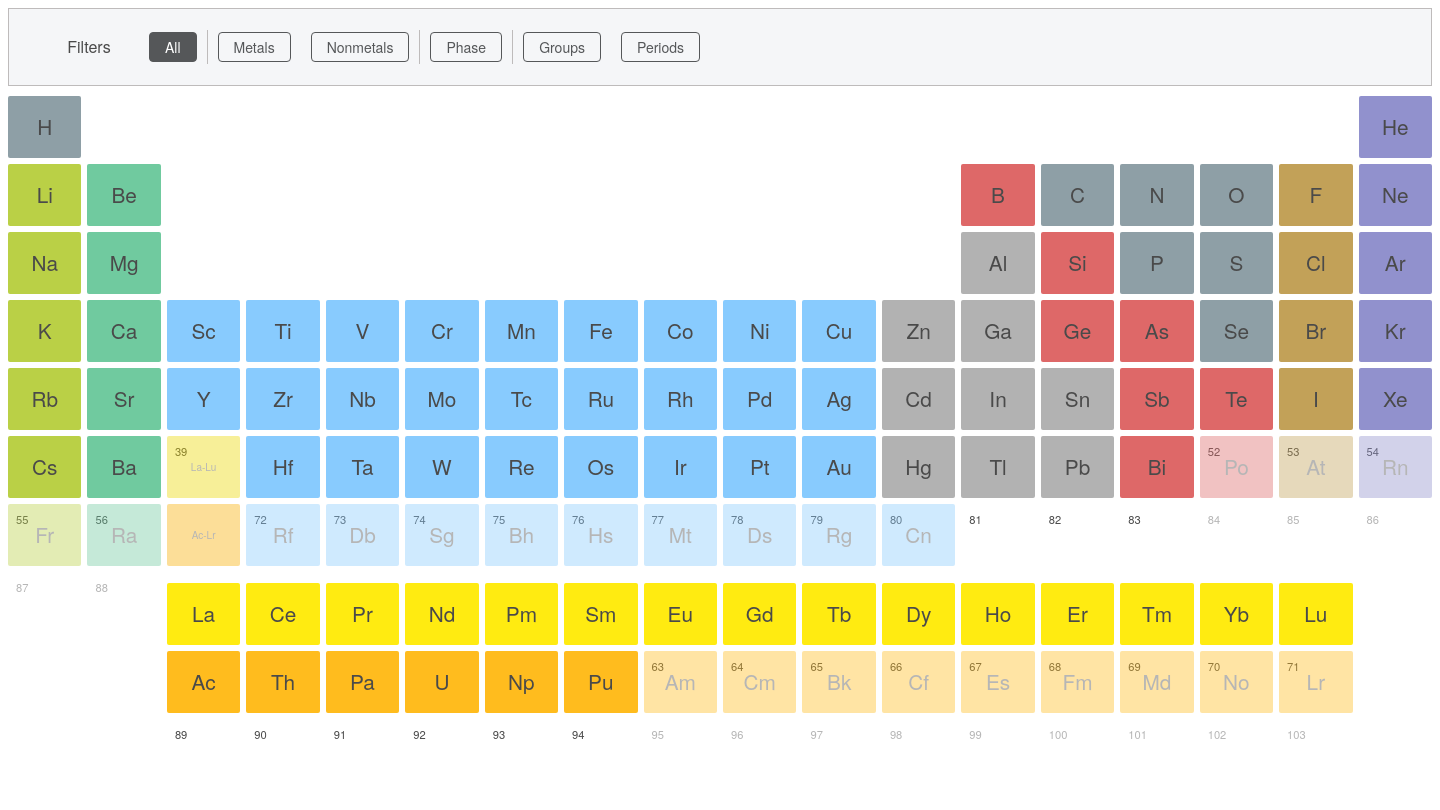
it: TableFilter › clears the previous hidden state when switching top-level filter groups
Click the button "Phase".
click(466, 47)  # box [430,32,502,62]
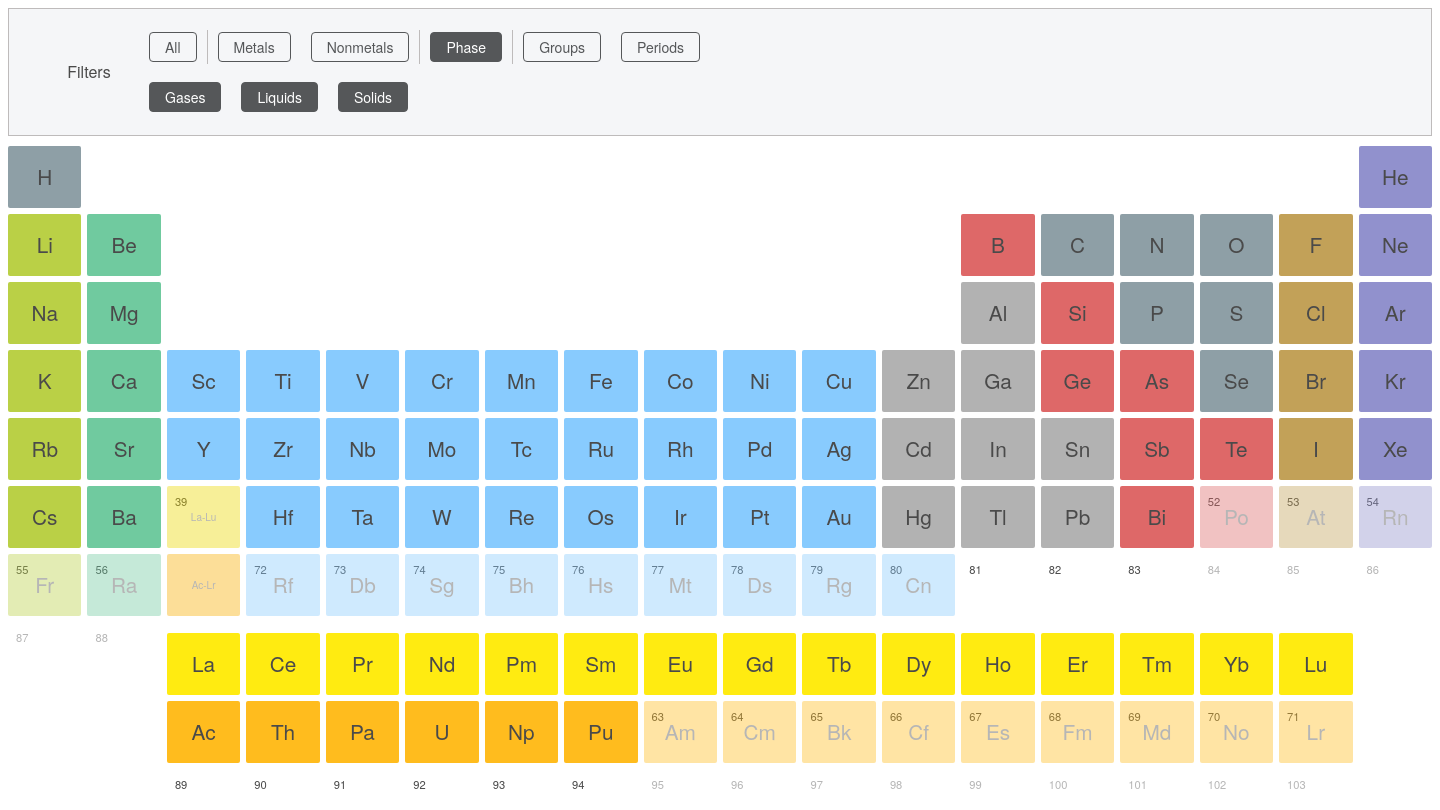
Click the button "Gases".
click(185, 97)  # box [149,82,222,112]
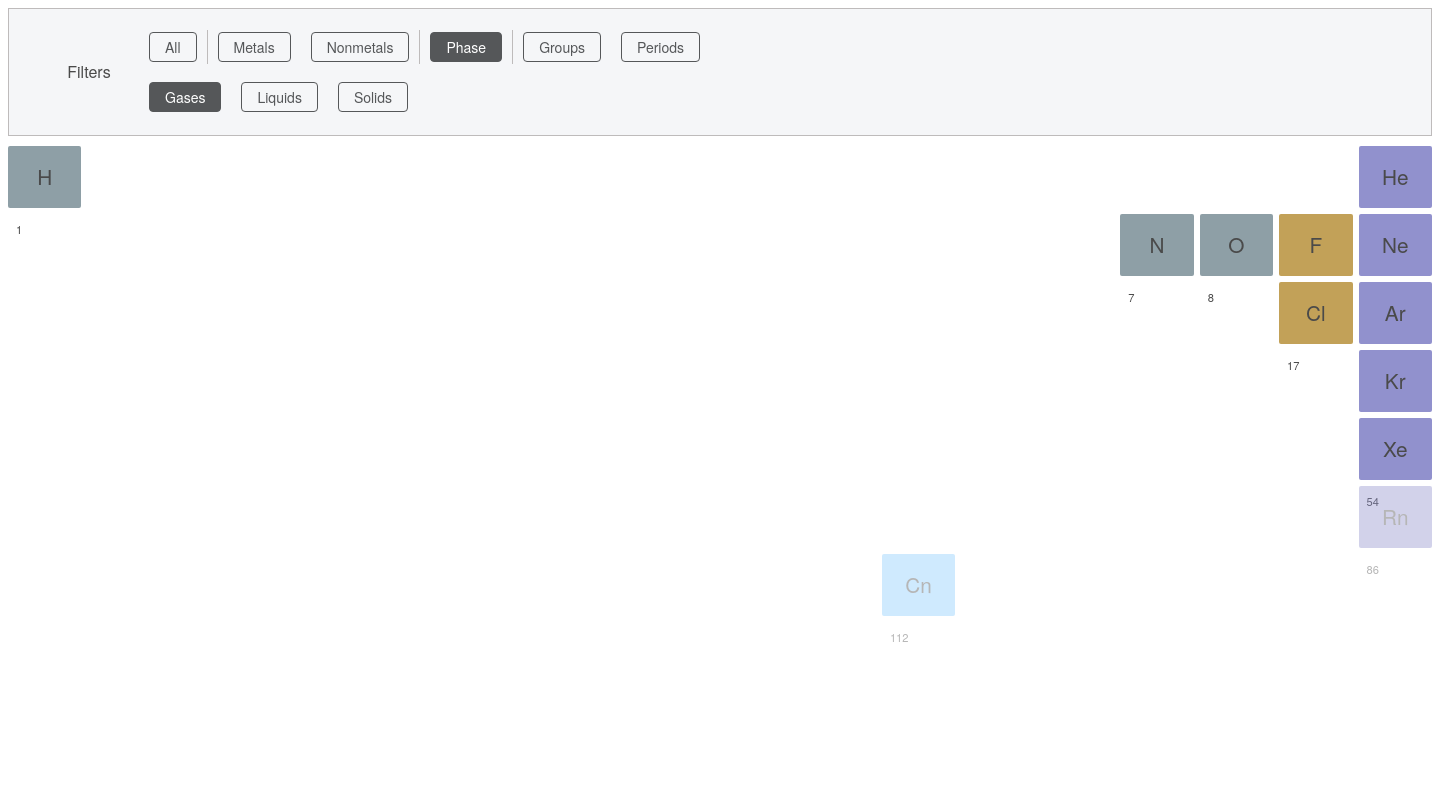
Now the button with test id "periodic-element-Fe" is gone
Click the button "Metals".
click(254, 47)  # box [218,32,291,62]
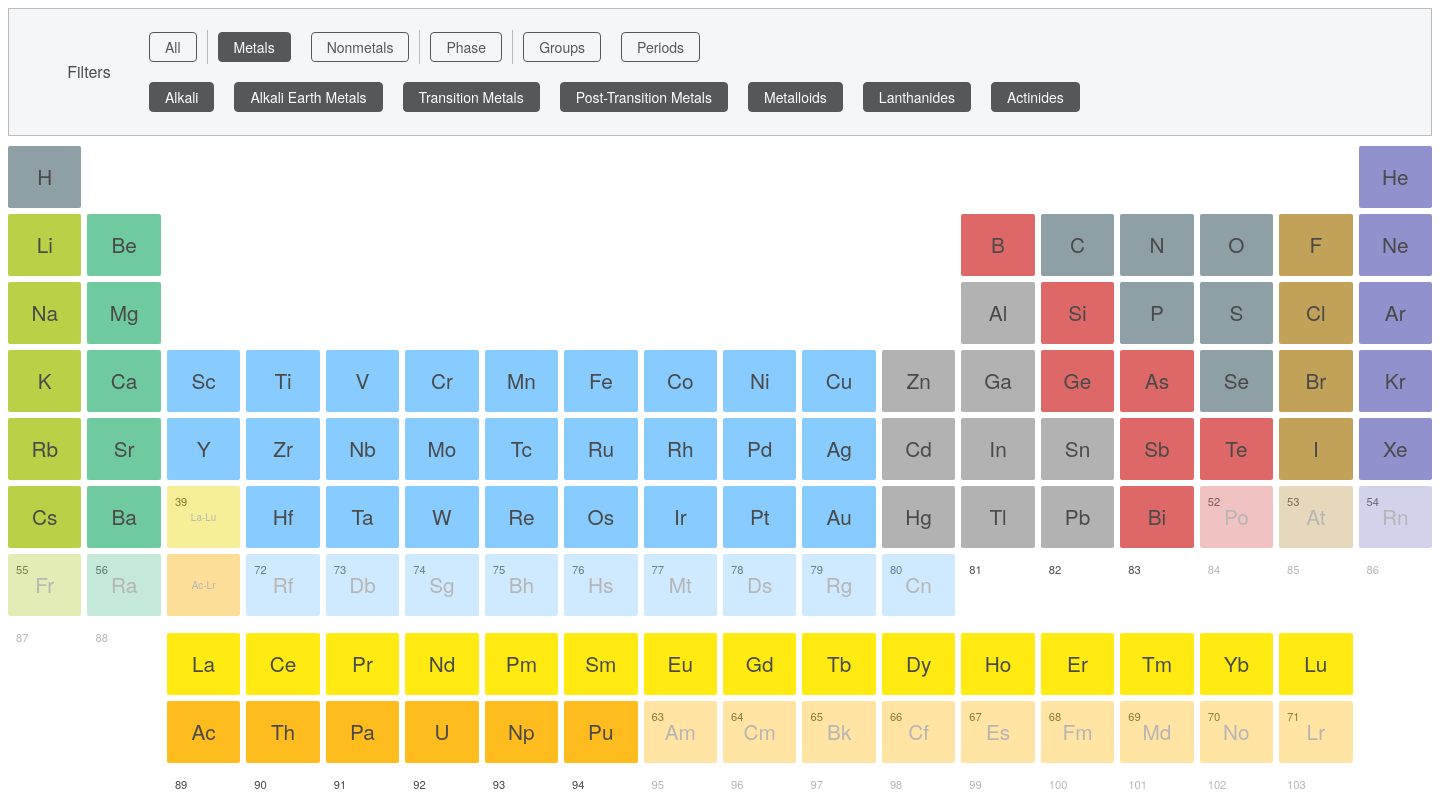
Now the button with test id "periodic-element-Fe" is shown, box [564,350,638,412]
Now the button "Transition Metals" is shown, box [403,82,540,112]
